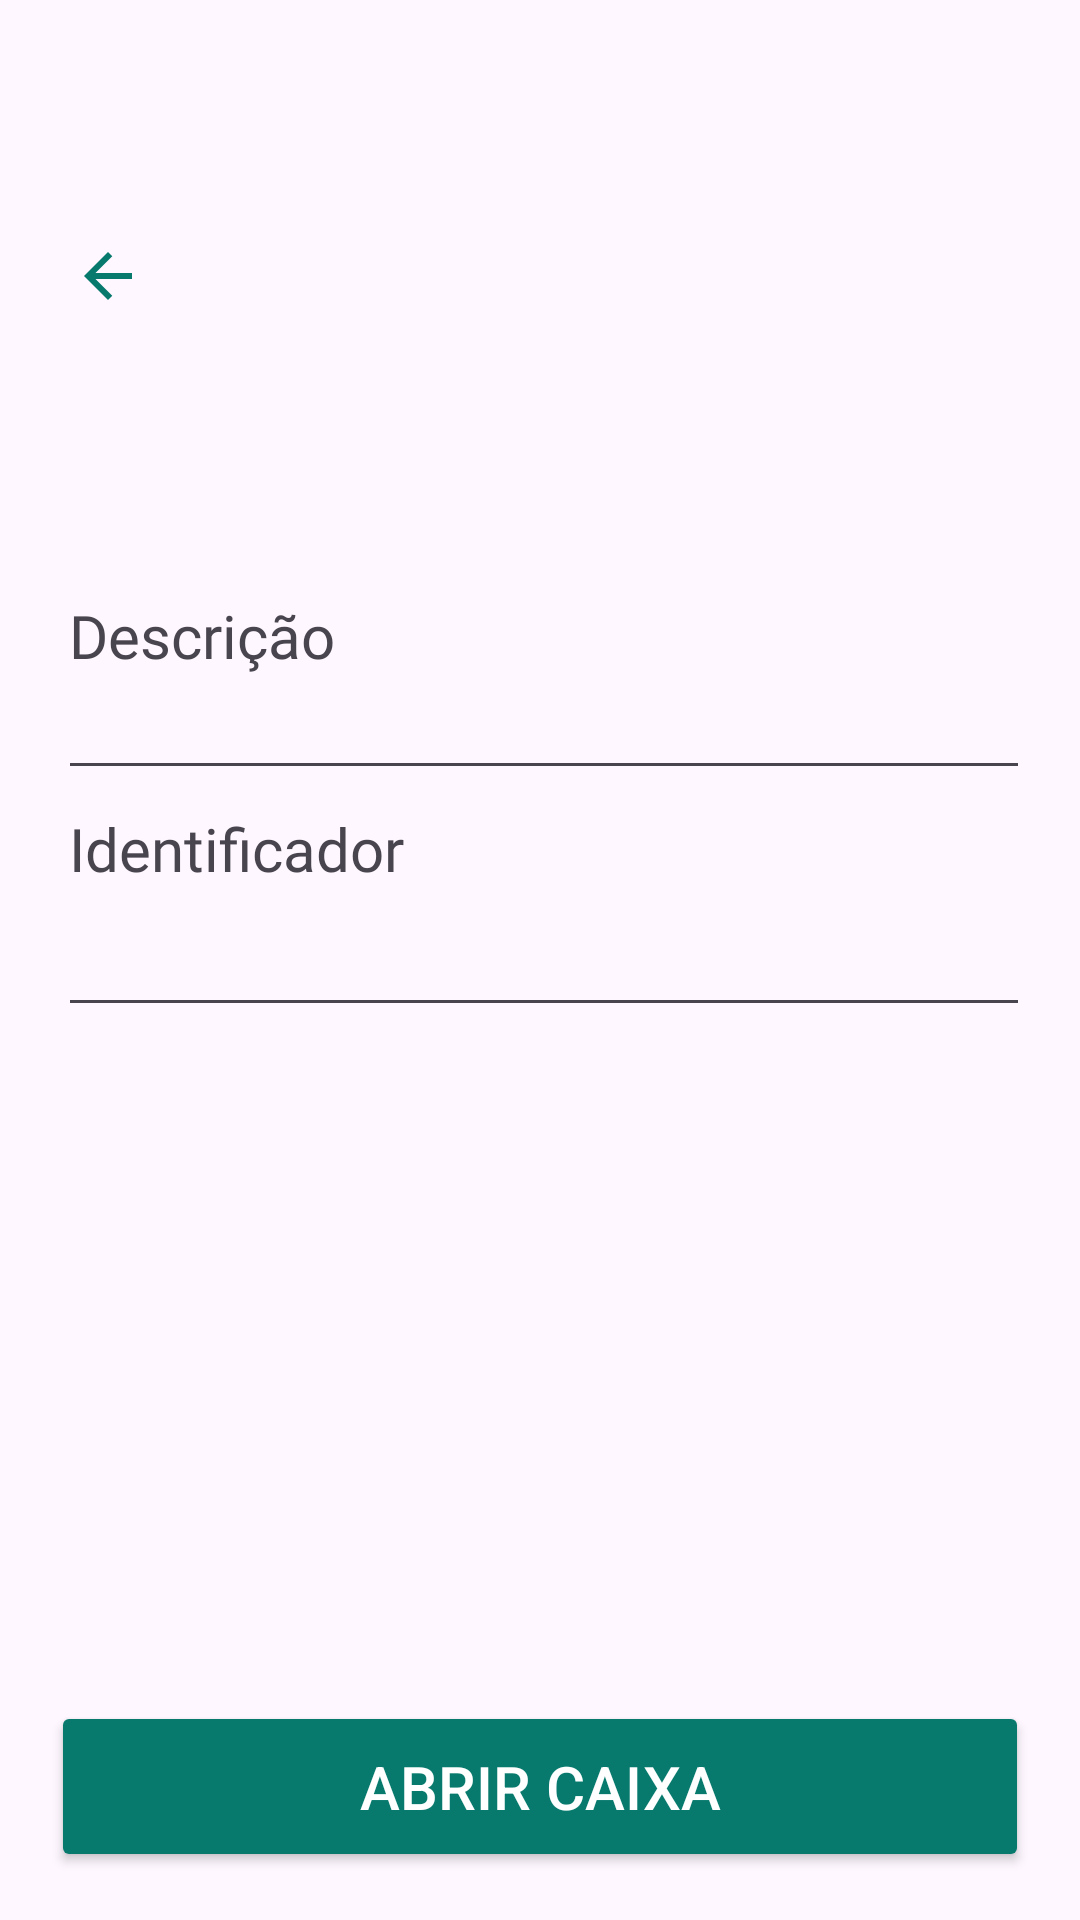

Icons on this 1080px×1920px Android screen, each with the point to tap as [x,y]:
Voltar: [108,276]
